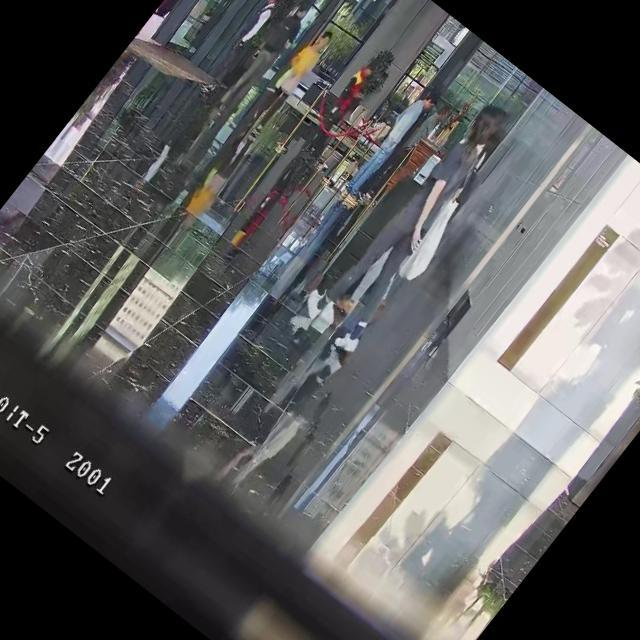person: (302, 90, 532, 360), (334, 82, 444, 212), (211, 0, 315, 119), (238, 23, 338, 141), (293, 56, 385, 166), (363, 97, 454, 206), (205, 0, 287, 83)
